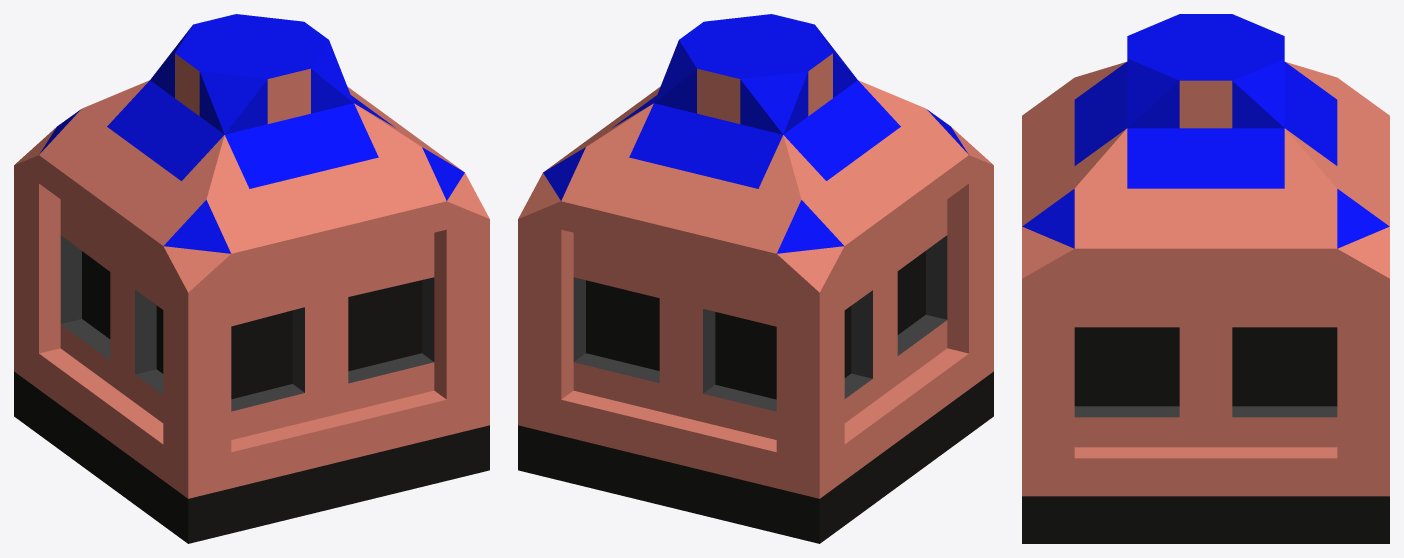
The model's file is hub.glb.
3 renders of one model, left to right at view 1: azimuth 30°, elevation 25°; view 2: azimuth 150°, elevation 25°; view 3: azimuth 270°, elevation 25°, orthographic. The views are drawn at different scales.
Parts seen in each view (by area): view 1: Cube; view 2: Cube; view 3: Cube.
Boxes of the visible parts, x1=… form: Cube: x1=14, y1=14, x2=489, y2=543; Cube: x1=518, y1=14, x2=993, y2=543; Cube: x1=1022, y1=14, x2=1389, y2=543.
Size of the model in its own units: 14 by 17.6 by 14.
